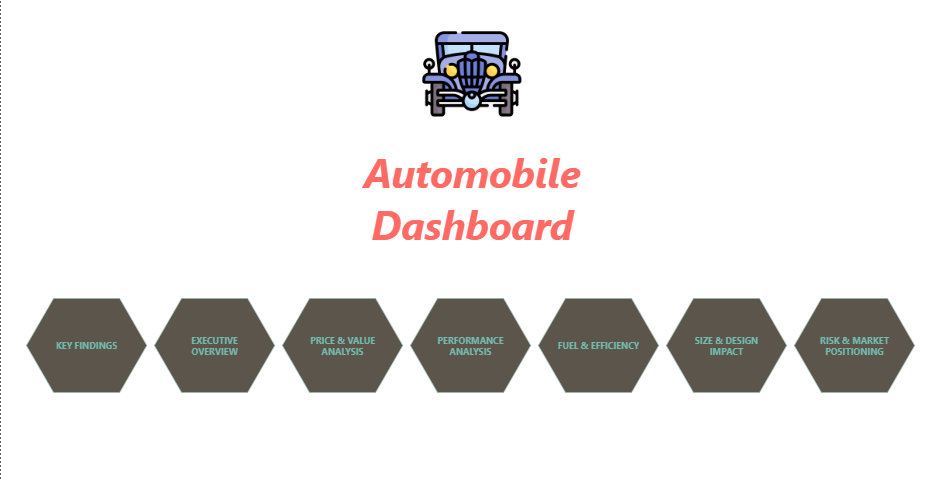

Layout of this report page (visuals, bound fields, positions):
{"tool":"powerbi","page":{"name":"Home","canvas":[1400,720],"ordinal":0},"visuals":[{"type":"textbox","box":[473.6,210.9,451.6,201.8],"z":0},{"type":"image","box":[623.7,36.2,151.4,147.5],"z":1000},{"type":"pageNavigator","box":[37.5,442.5,1325,141],"z":2000}]}

Visuals, with their boxes in screenshot pixels (x1, y1, x2, y2), scaled from the page's 1400x720 canvas onto the 943x481 screenshot:
textbox: bbox(319, 141, 623, 276)
image: bbox(420, 24, 522, 123)
pageNavigator: bbox(25, 296, 918, 390)
